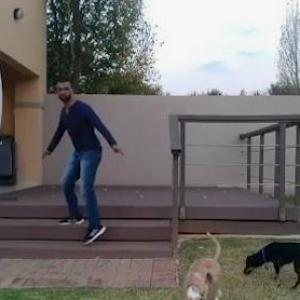land: (45, 73, 123, 248)
